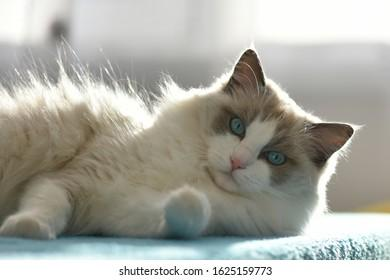ragdoll: (182, 43, 364, 231)
